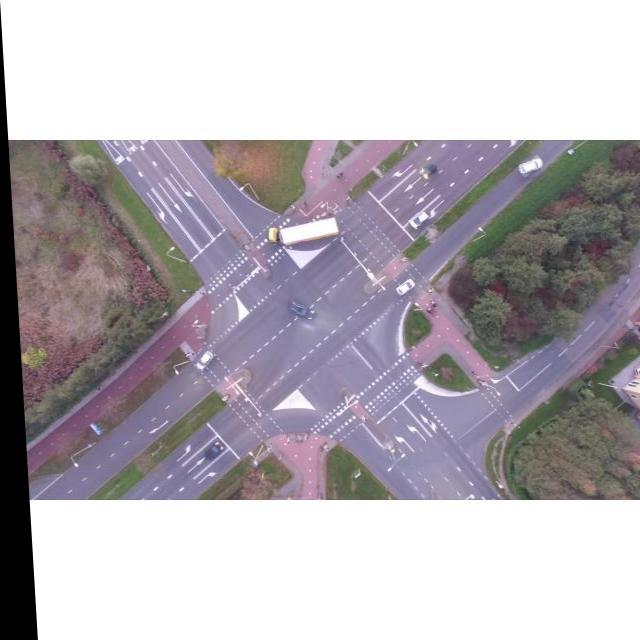vehicle: (264, 218, 337, 246), (515, 153, 542, 179), (283, 299, 311, 319), (391, 277, 412, 295), (406, 211, 427, 229), (192, 351, 210, 371), (198, 442, 218, 460), (419, 162, 437, 178)
